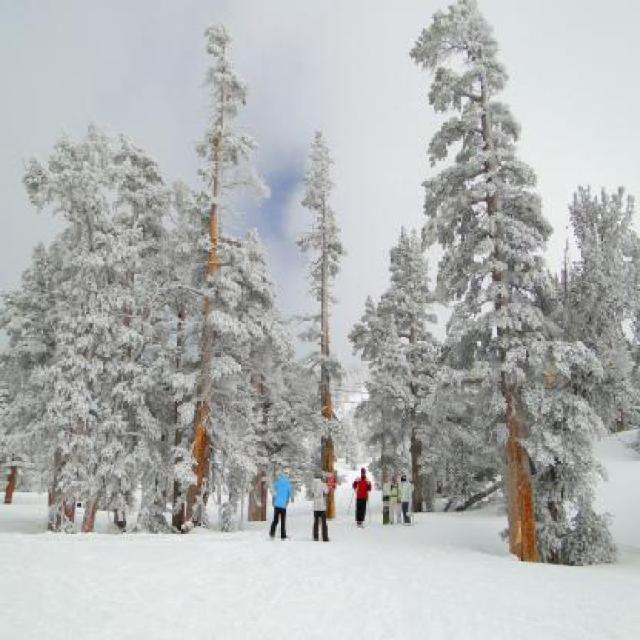Person: (260, 478, 294, 542), (307, 470, 330, 542), (355, 471, 370, 529), (392, 478, 402, 524), (402, 476, 410, 526)
